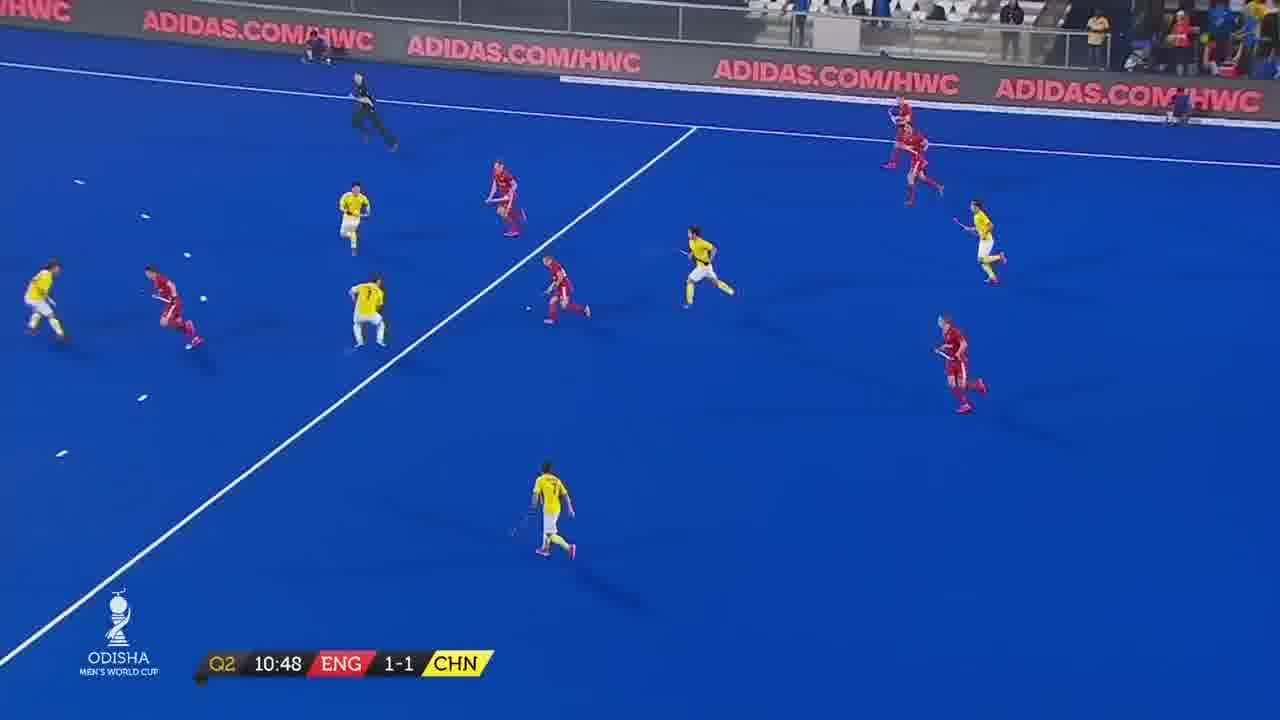ball: (524, 300, 540, 322)
